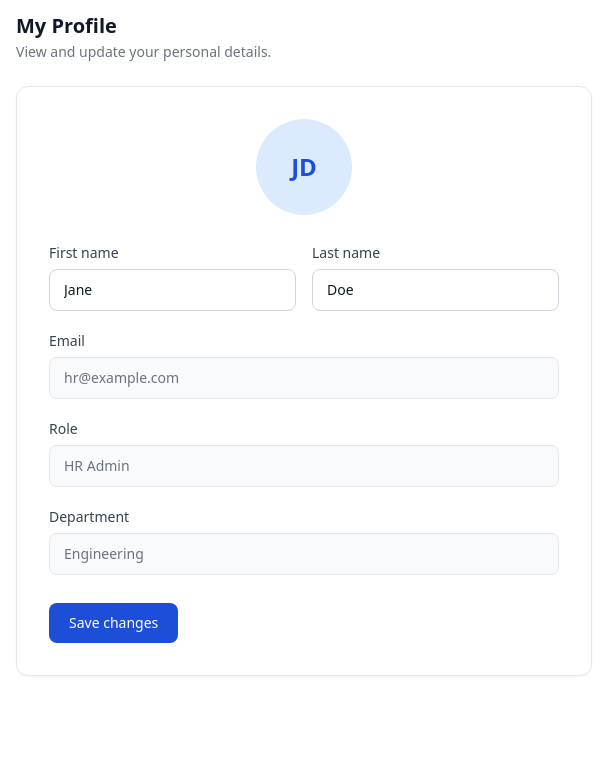
Scenario: ProfilePage › shows error message on save failure
Click the button "Save changes".
click(114, 623)  # box x1=49 y1=603 x2=178 y2=643
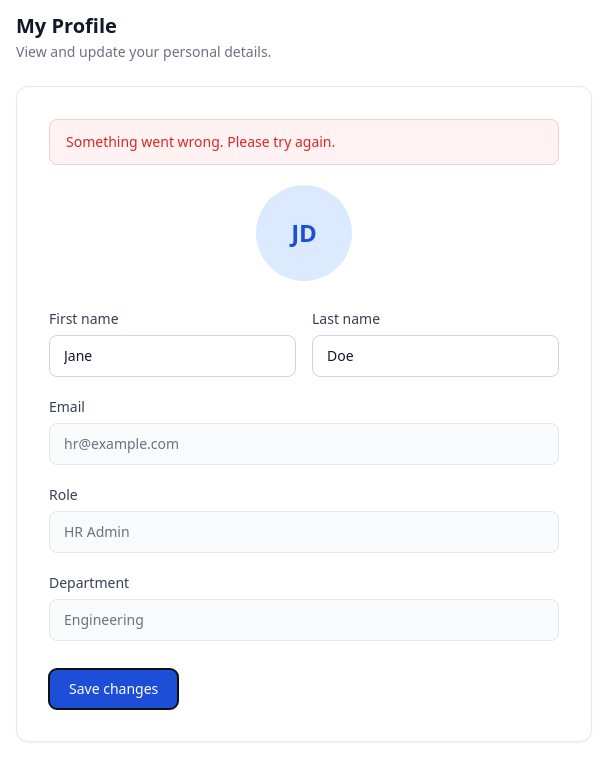
expect the text "Something went wrong. Please try again." is shown: met, box x1=49 y1=119 x2=559 y2=165
